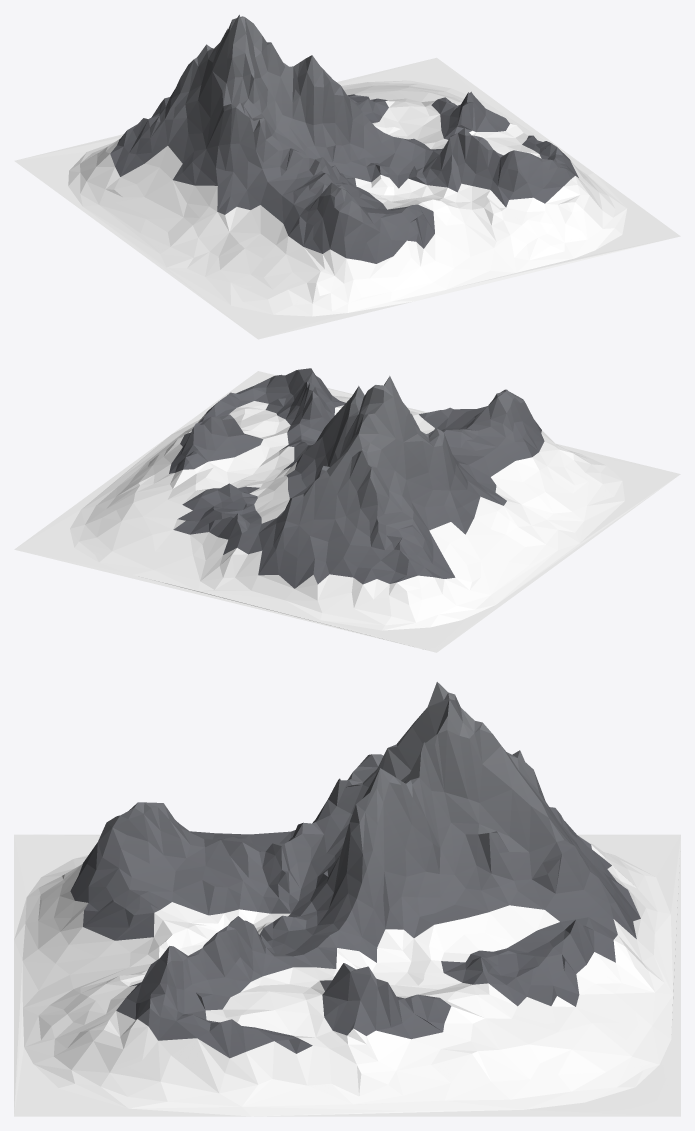
The model's file is Landscape_10.fbx.
The picture shows the model from 3 angles, top to bottom: view 1: azimuth 30°, elevation 25°; view 2: azimuth 150°, elevation 25°; view 3: azimuth 270°, elevation 25°; orthographic projection. The views are drawn at different scales.
Visible parts, largest first — view 1: Landscape_10; view 2: Landscape_10; view 3: Landscape_10.
Boxes of the visible parts, left/top/right/bottom form: Landscape_10: left=14, top=14, right=680, bottom=339; Landscape_10: left=14, top=368, right=680, bottom=652; Landscape_10: left=14, top=682, right=680, bottom=1116.
Bounding box in the file's own units: 10000 × 4037 × 10000.
